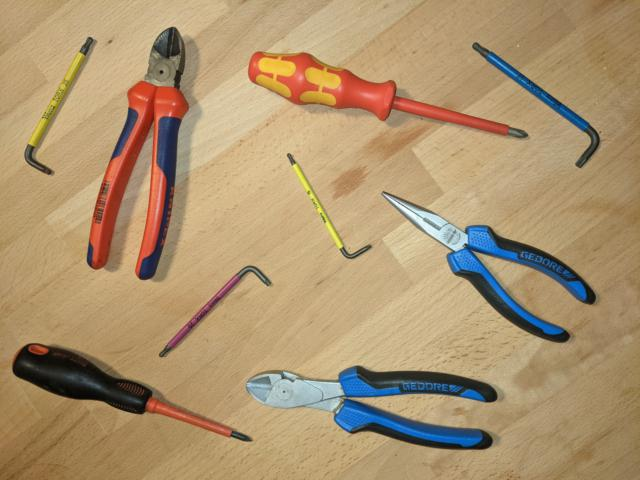Inbusschlüssel: (469, 39, 603, 170), (155, 263, 274, 361), (21, 33, 97, 177), (283, 147, 375, 261)
Schraubendreher: (243, 46, 534, 144), (9, 338, 257, 446)
Seitenschneider: (83, 25, 194, 283), (244, 362, 500, 454)
Zange: (378, 187, 600, 346)
